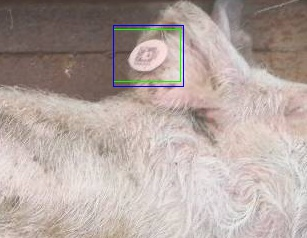text: (113, 29, 180, 81)
